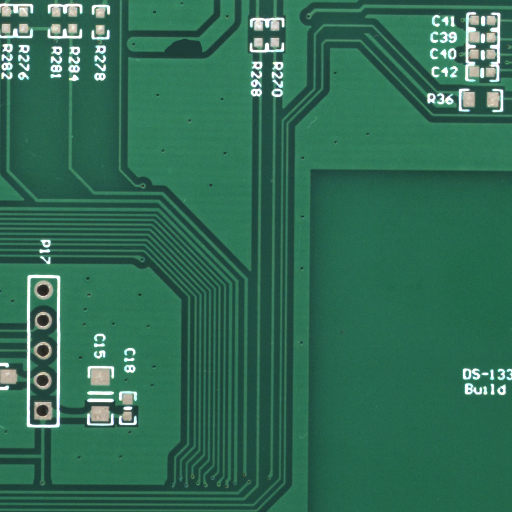Mouse_bite: (185, 47, 229, 71)
